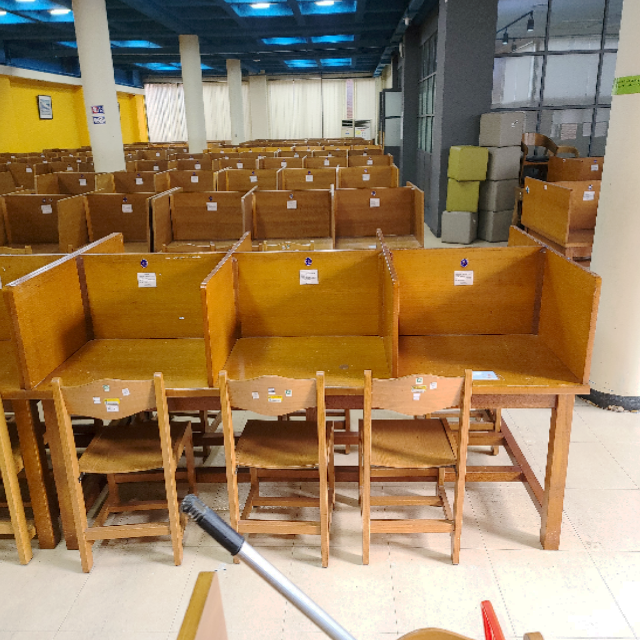empty: (406, 238, 604, 478), (214, 246, 397, 477), (10, 255, 205, 461)
